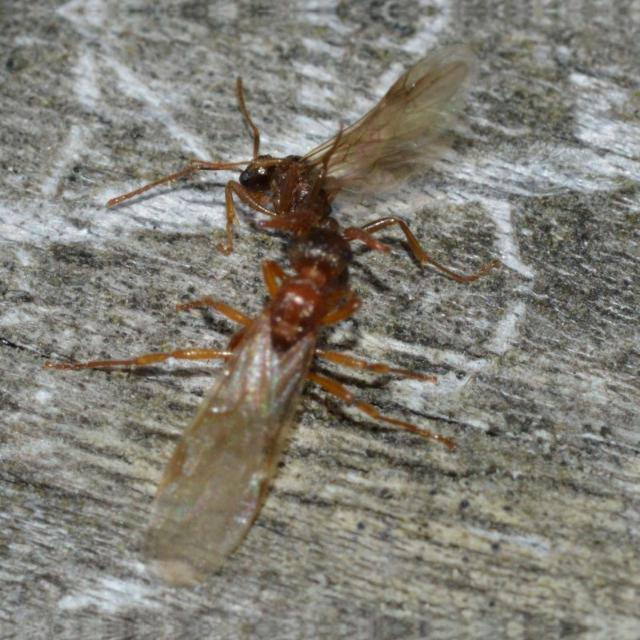Myrmica: (80, 217, 424, 568), (171, 72, 491, 272)
